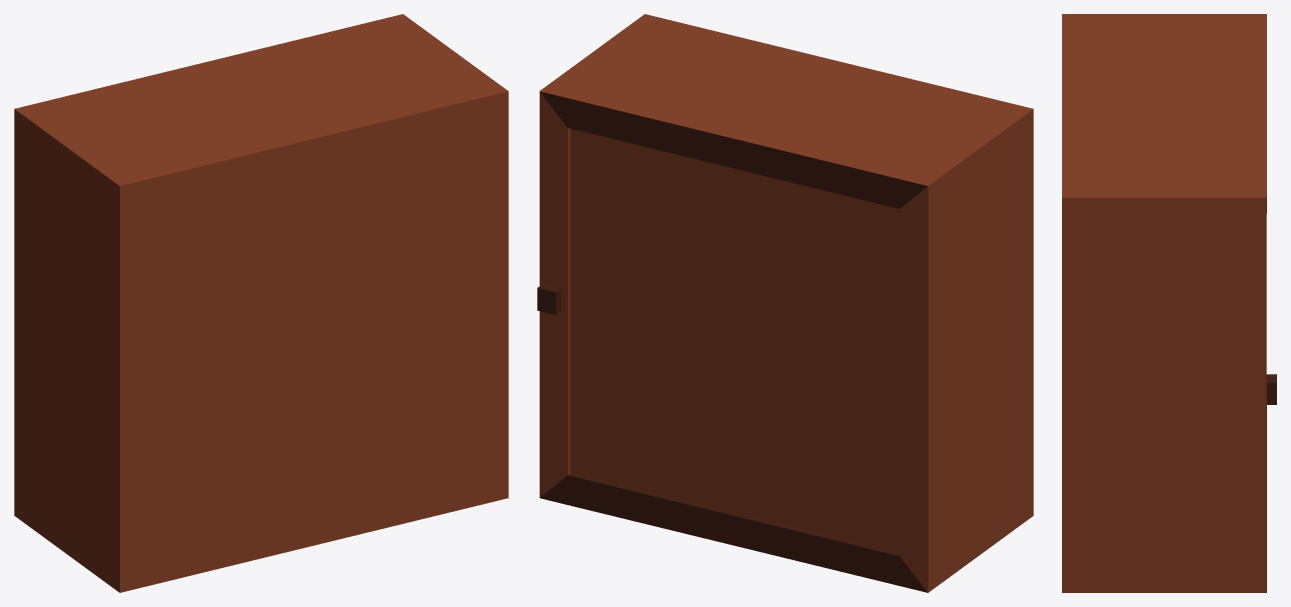
File: RightCabinet.fbx
3 views of the same model, side by side, from view 1: azimuth 30°, elevation 25°; view 2: azimuth 150°, elevation 25°; view 3: azimuth 270°, elevation 25° (orthographic). The views are drawn at different scales.
Visible parts, largest first — view 1: RightCabinet; view 2: RightCabinet; view 3: RightCabinet.
Boxes of the visible parts, box(x1,y1,x2,y2) form: RightCabinet: box(14, 14, 508, 592); RightCabinet: box(537, 14, 1033, 592); RightCabinet: box(1062, 14, 1276, 592).
Size of the model in its own units: 200 by 200 by 98.66.
Materials: 1 (1 with a texture image).
